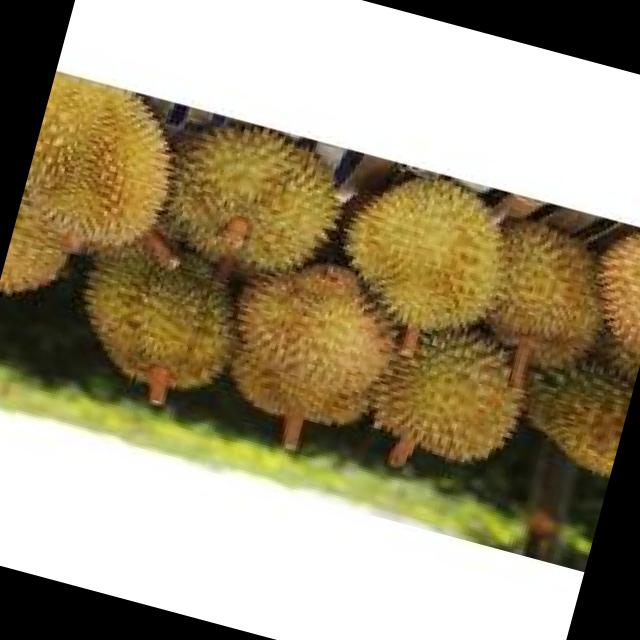fruit: (193, 217, 421, 452), (43, 201, 278, 418), (130, 104, 367, 309), (308, 150, 530, 364), (342, 281, 558, 493), (6, 74, 200, 296), (514, 214, 640, 499)
